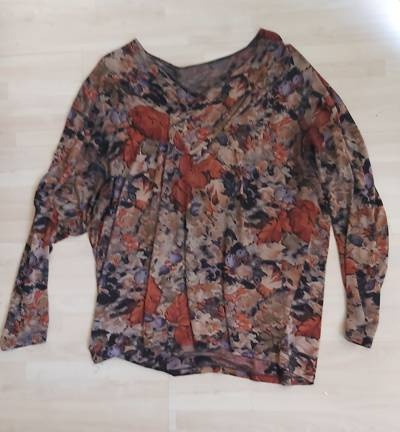Blouse: (3, 24, 393, 394)
